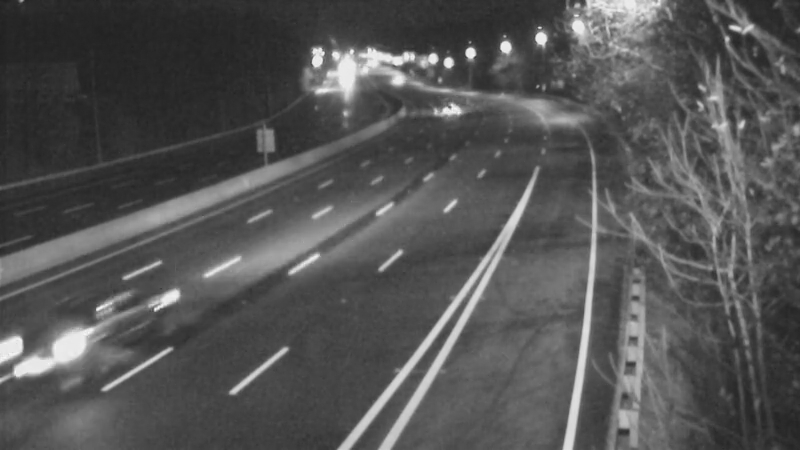vehicle: (39, 282, 149, 392), (372, 53, 422, 103), (419, 85, 469, 135)
